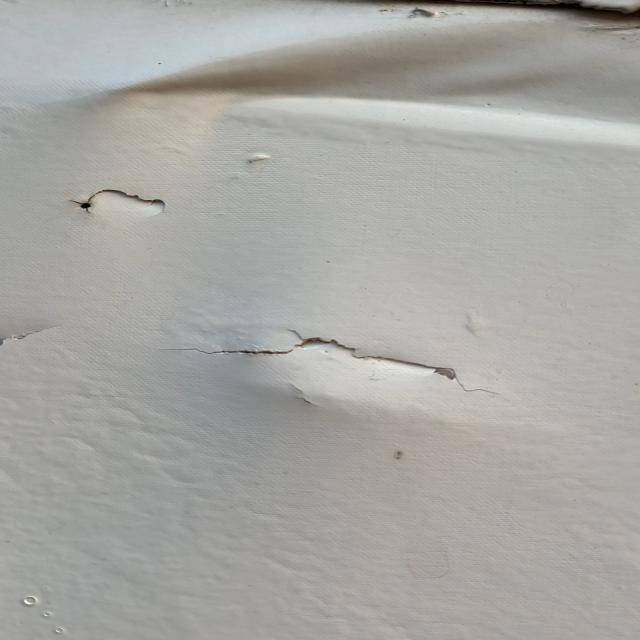Scratches: (117, 1, 640, 137), (175, 330, 504, 398), (51, 181, 202, 226), (1, 309, 80, 375)
